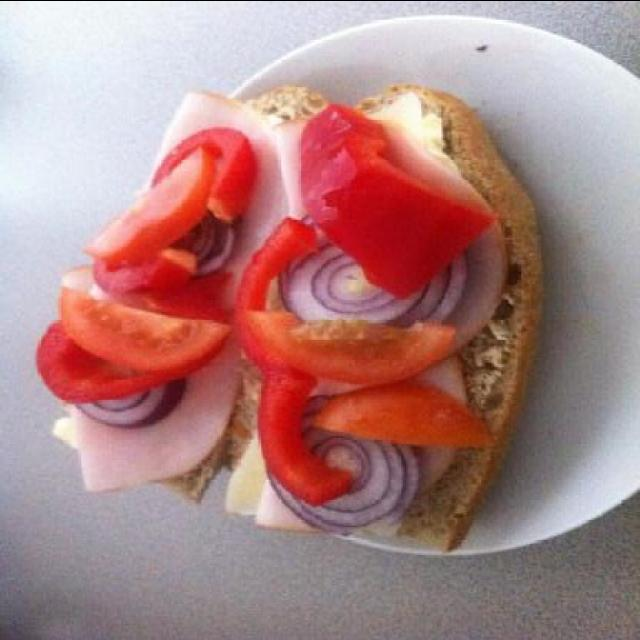Bread: (154, 86, 328, 497)
